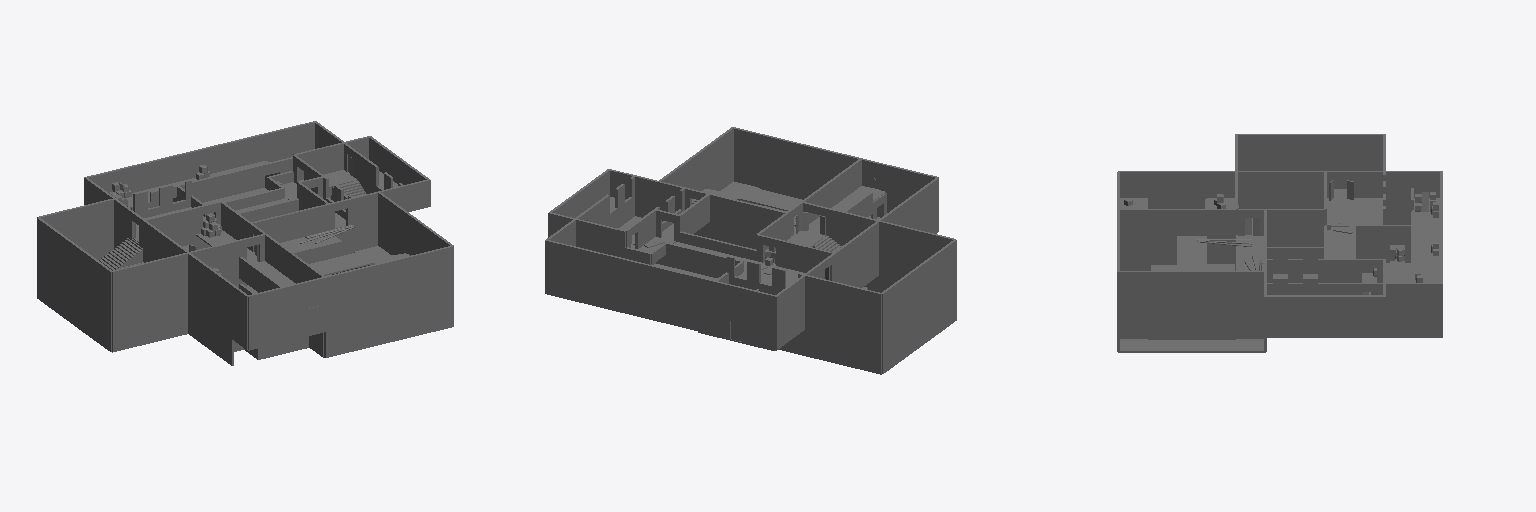
File: newMaze.obj
3 renders of one model, left to right at view 1: azimuth 30°, elevation 25°; view 2: azimuth 150°, elevation 25°; view 3: azimuth 270°, elevation 25°, orthographic.
Visible parts, largest first — view 1: myMaze:Mesh2; view 2: myMaze:Mesh2; view 3: myMaze:Mesh2.
Boxes of the visible parts, x1,y1,x2,y2 form: myMaze:Mesh2: [37, 121, 453, 365]; myMaze:Mesh2: [545, 127, 956, 374]; myMaze:Mesh2: [1117, 134, 1442, 352].
Bounding box in the file's own units: 130 × 30.5 × 110.